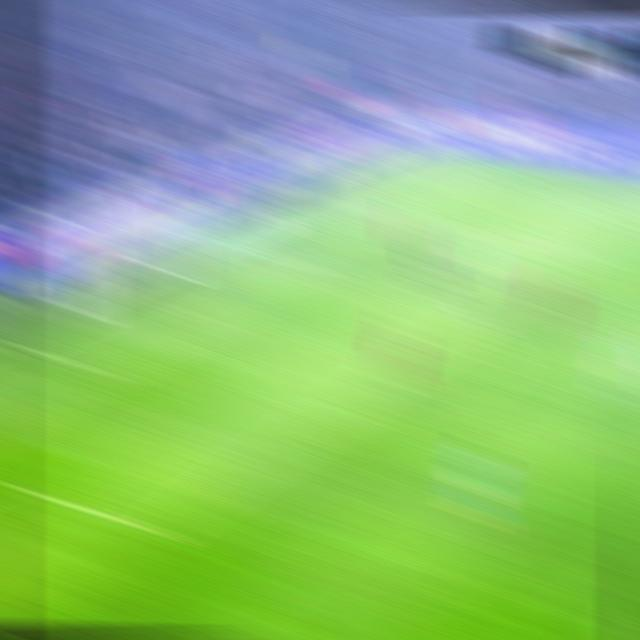bigarea_bottom_inner: (134, 511, 181, 554)
bigarea_top_inner: (561, 240, 597, 266)
bigarea_top_outter: (315, 190, 350, 217)
bottom_arc_area_intersection: (314, 395, 355, 431)
corner: (418, 148, 451, 166)
smallarea_bottom_inner: (86, 352, 129, 388)
smallarea_bottom_outter: (0, 331, 33, 360)
smallarea_top_inner: (293, 250, 333, 282)
smallarea_top_outter: (217, 236, 252, 260)
top_arc_area_intersection: (461, 302, 500, 334)
